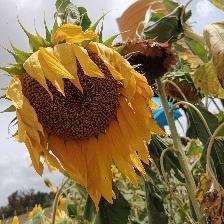sunflower: (8, 41, 164, 211)
